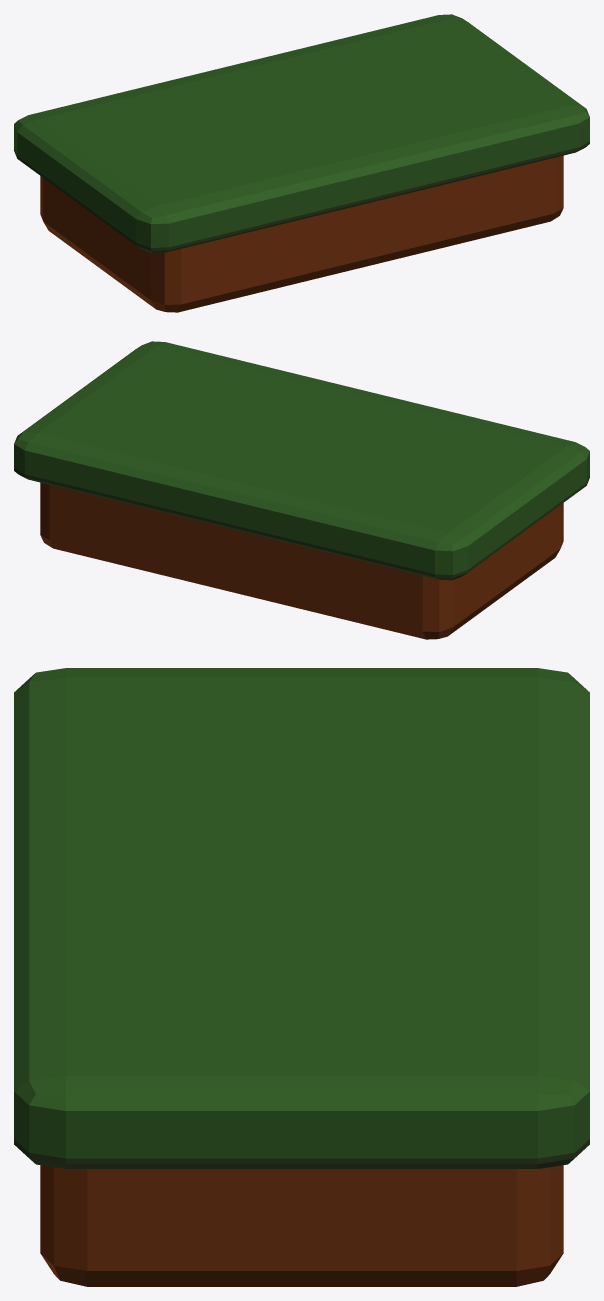
The model's file is MovingPlatform.fbx.
3 views of the same model, one above another, from view 1: azimuth 30°, elevation 25°; view 2: azimuth 150°, elevation 25°; view 3: azimuth 270°, elevation 25° (orthographic). The views are drawn at different scales.
Visible parts, largest first — view 1: MovingPlatform; view 2: MovingPlatform; view 3: MovingPlatform.
Part boxes in pixels (box(x1,y1,x2,y2)): MovingPlatform: box(14, 14, 589, 312); MovingPlatform: box(14, 341, 589, 639); MovingPlatform: box(14, 668, 589, 1286).
Size of the model in its own units: 396 by 94.72 by 220.
